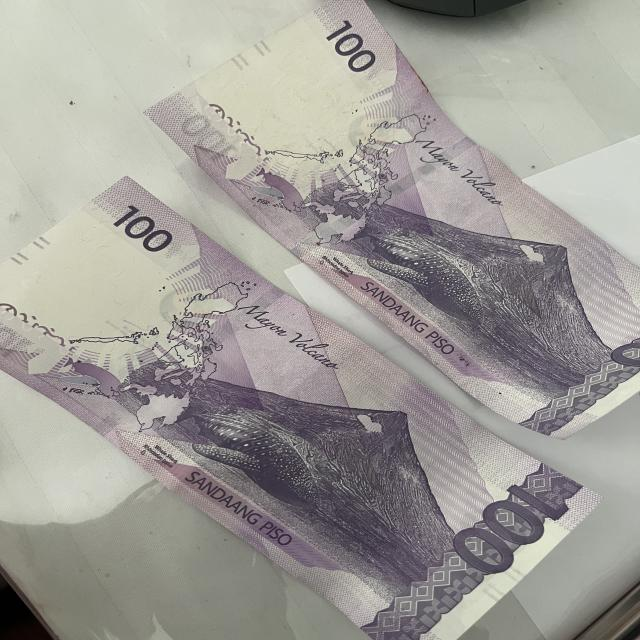100_whale: (173, 394, 329, 518), (347, 208, 486, 334)
100_whale_watermark: (51, 346, 132, 410), (244, 159, 314, 221)
watermark: (223, 47, 382, 159)
